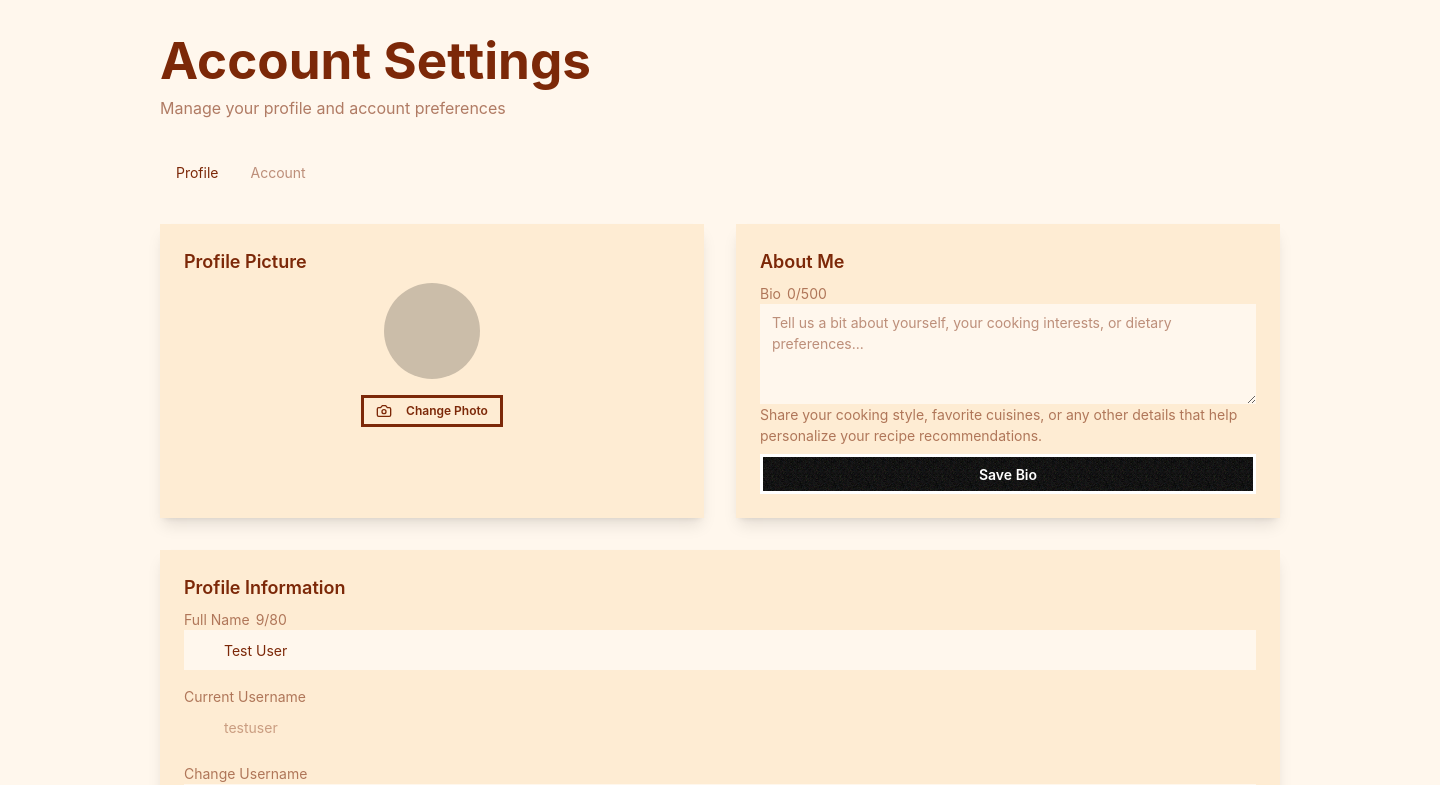
Test case: Profile Page Password Validation › Password Change Form › should enable submit button with valid 6-character password
The image size is (1440, 785).
Click the button "Account" at (278, 172), box [234, 152, 322, 192]
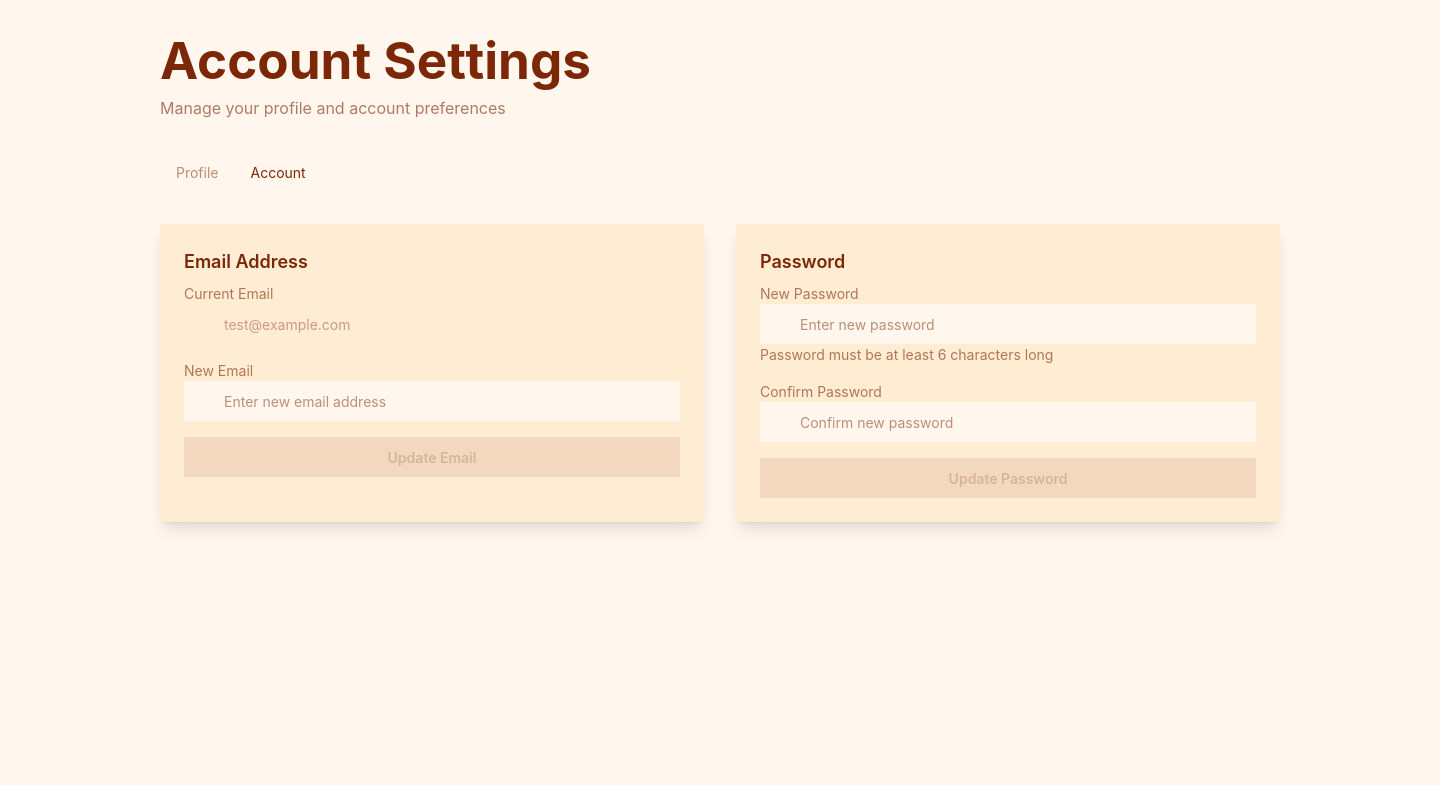
Check: the button "Update Password" is disabled, box [760, 458, 1256, 498]
Type "123456" into the password field with placeholder "Enter new password" at (1008, 324), box [760, 304, 1256, 344]
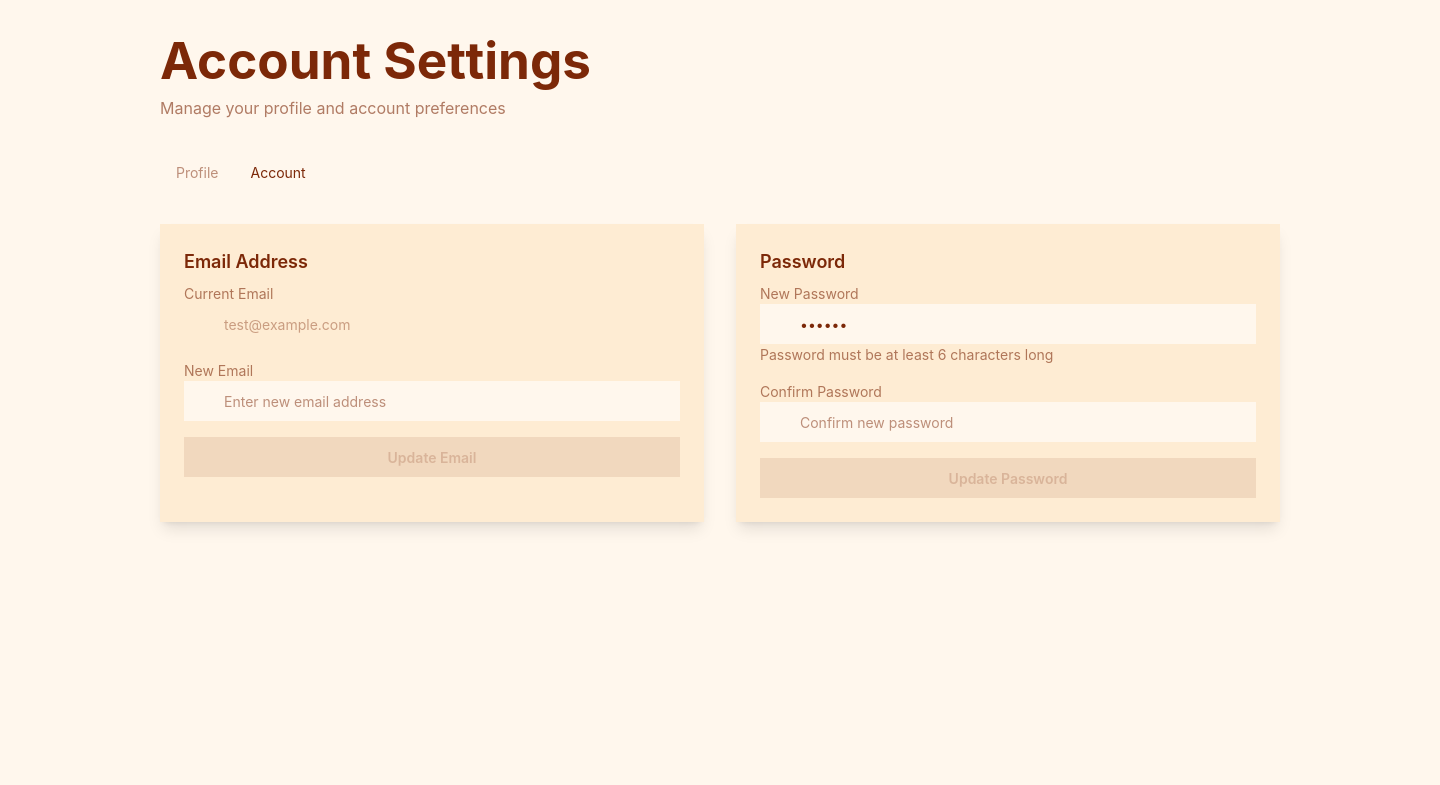
Type "123456" into the password field with placeholder "Confirm new password" at (1008, 422), box [760, 402, 1256, 442]
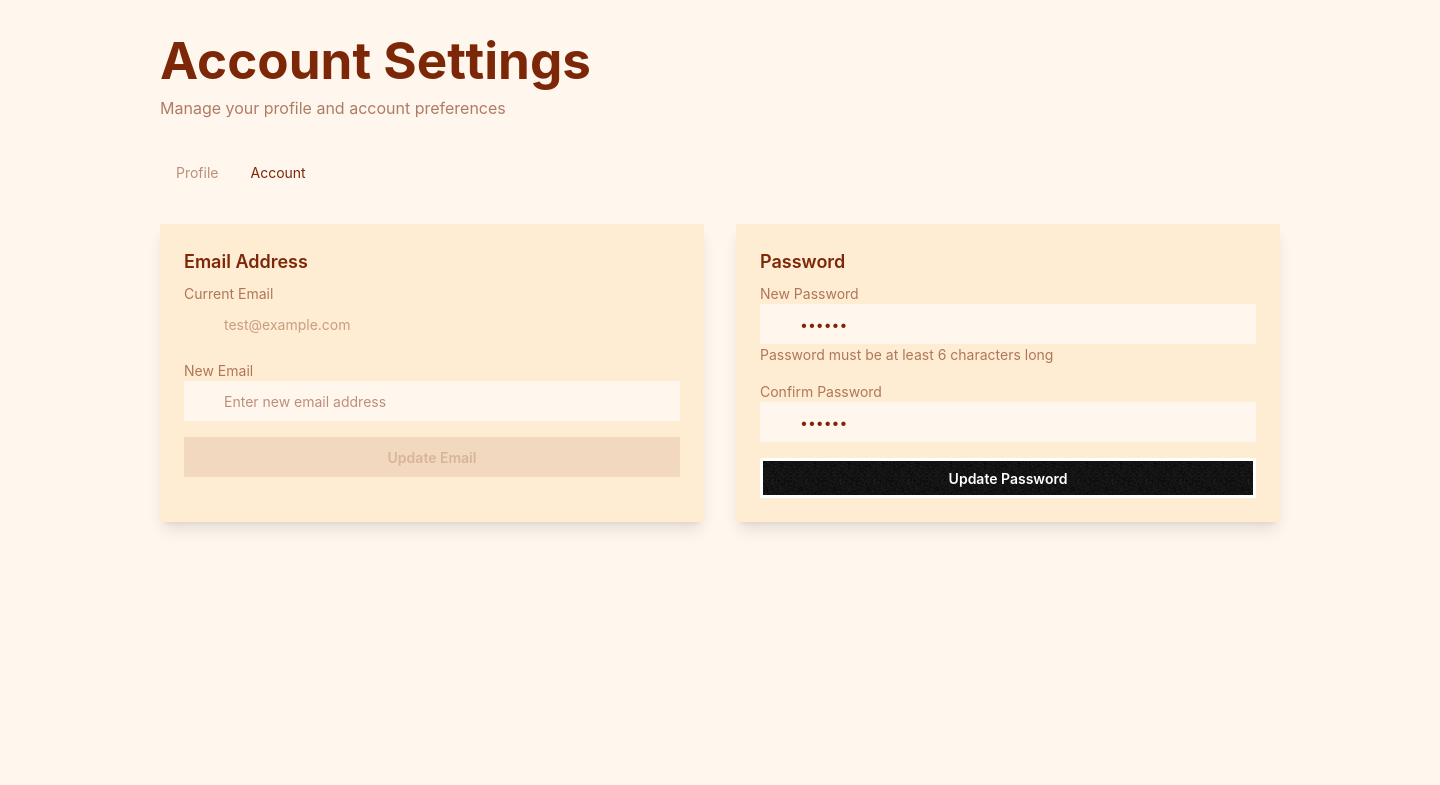
Check: the button "Update Password" is enabled, box [760, 458, 1256, 498]
